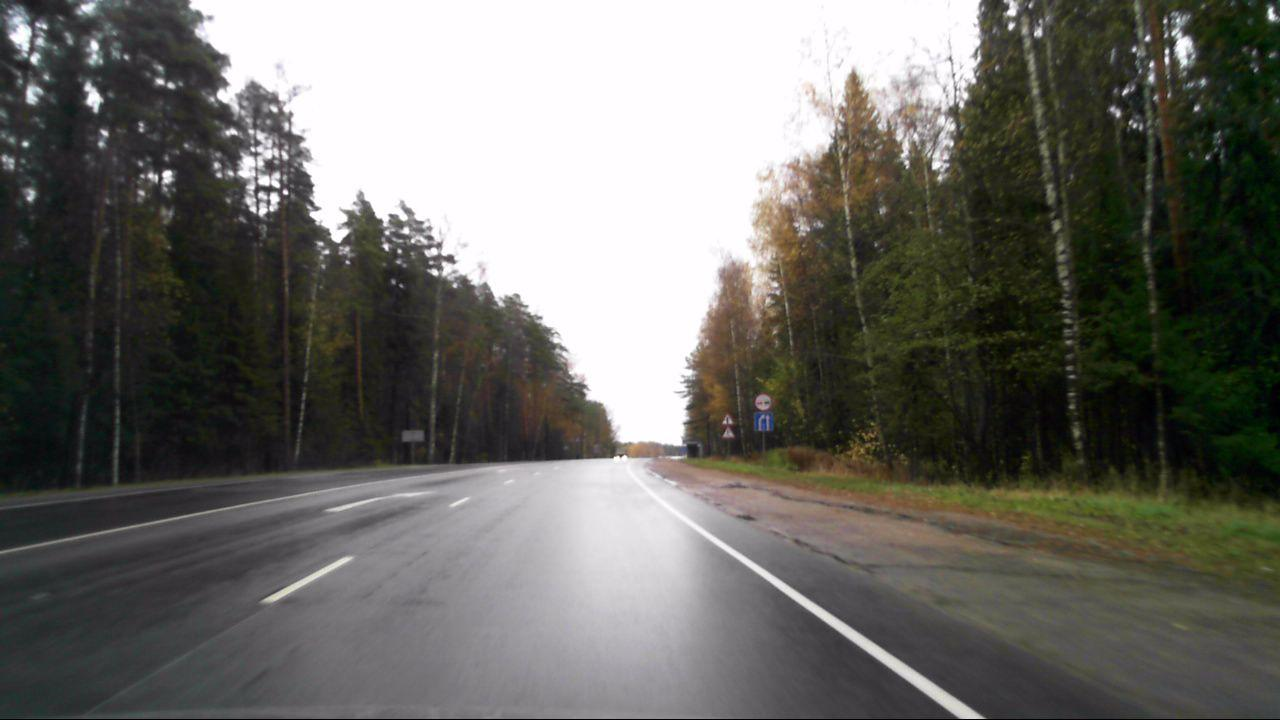road_sign: (752, 411, 775, 432)
